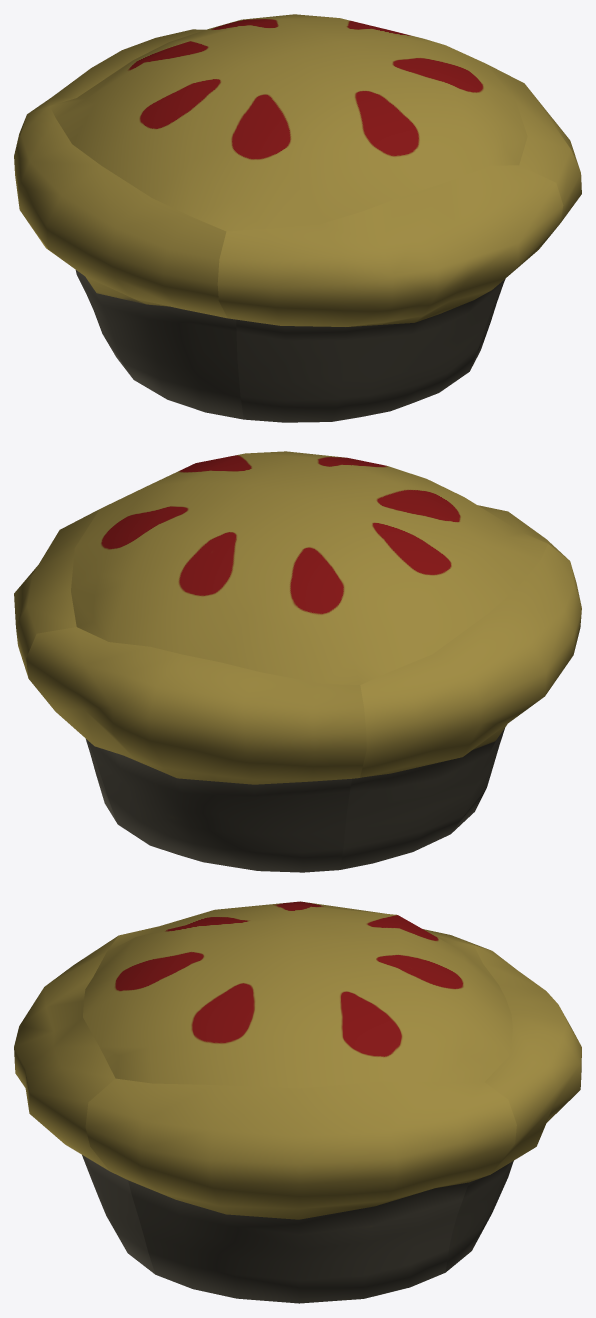
File: Pastel.FBX
The picture shows the model from 3 angles, top to bottom: view 1: azimuth 30°, elevation 25°; view 2: azimuth 150°, elevation 25°; view 3: azimuth 270°, elevation 25°; orthographic projection. The views are drawn at different scales.
Visible parts, largest first — view 1: american pie; view 2: american pie; view 3: american pie.
Boxes of the visible parts, x1,y1,x2,y2 form: american pie: (14,14,581,422); american pie: (14,451,581,872); american pie: (14,901,581,1303).
Size of the model in its own units: 24.86 by 14.22 by 25.51.
Materials: 1 (1 with a texture image).
